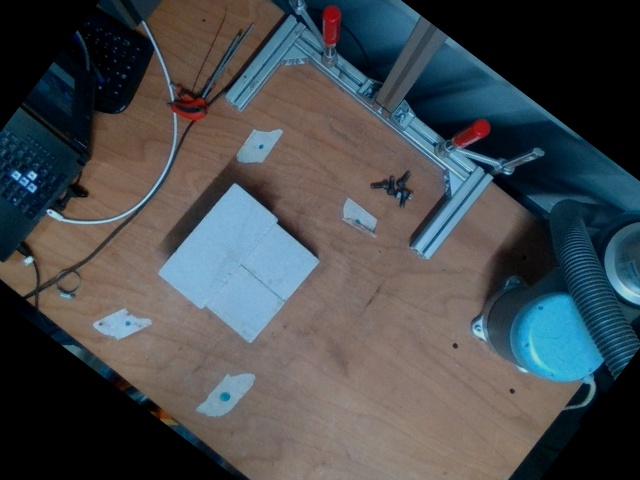brick: (156, 181, 278, 310)
